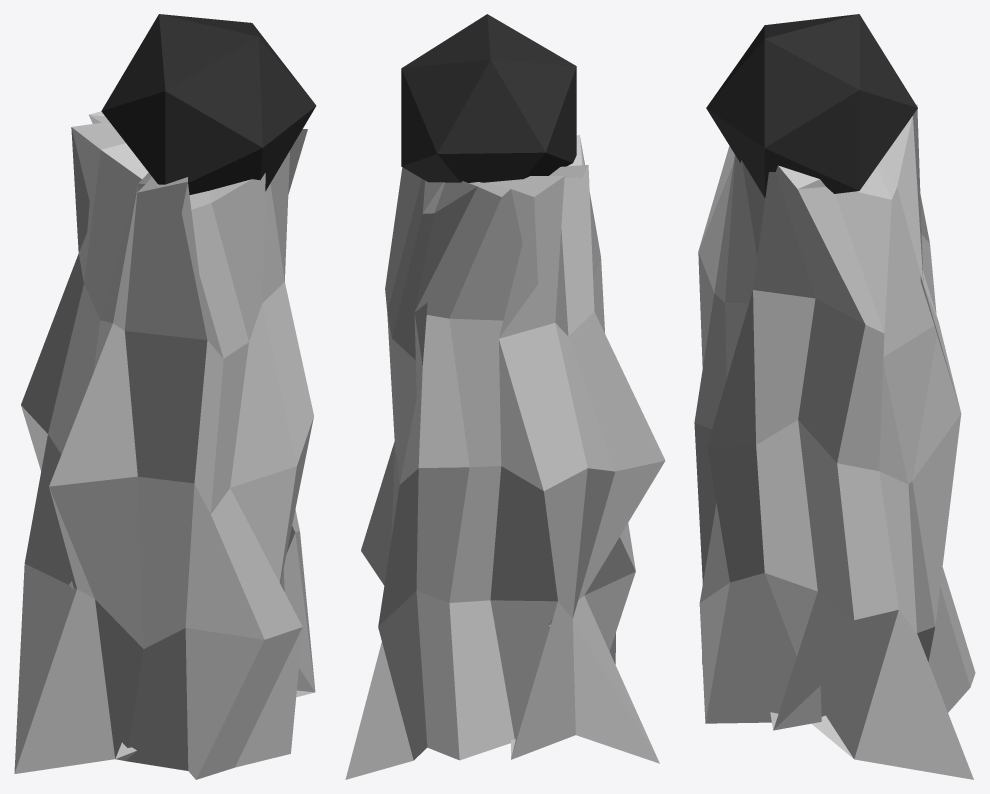
File: Char_GL_Hand_L_Upper.FBX
3 views of the same model, side by side, from view 1: azimuth 30°, elevation 25°; view 2: azimuth 150°, elevation 25°; view 3: azimuth 270°, elevation 25° (orthographic). The views are drawn at different scales.
Parts seen in each view (by area): view 1: Cylinder004; view 2: Cylinder004; view 3: Cylinder004.
Boxes of the visible parts, x1,y1,x2,y2 form: Cylinder004: [14, 14, 316, 779]; Cylinder004: [345, 14, 665, 779]; Cylinder004: [694, 14, 975, 779].
Bounding box in the file's own units: 11.52 × 26.98 × 9.53.
